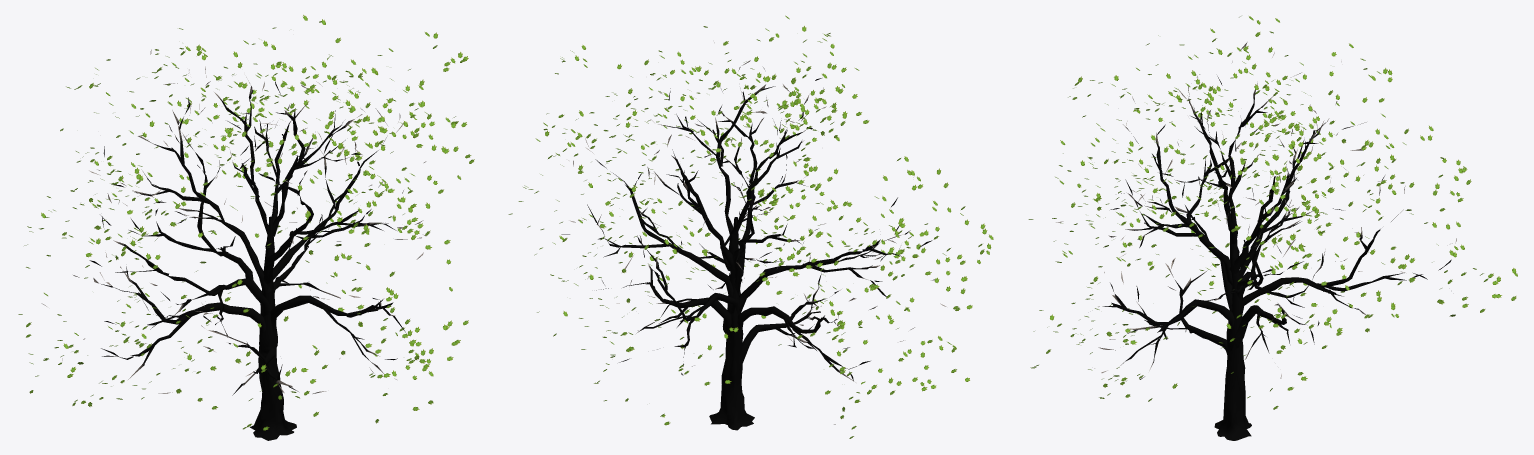
File: LINDEN-ashgreen-FIXED-far.glb
3 renders of one model, left to right at view 1: azimuth 30°, elevation 25°; view 2: azimuth 150°, elevation 25°; view 3: azimuth 270°, elevation 25°, orthographic. The views are drawn at different scales.
Parts seen in each view (by area): view 1: ash_green_1; view 2: ash_green_1; view 3: ash_green_1.
Part boxes in pixels (x1,y1,x2,y2): ash_green_1: [18, 15, 474, 440]; ash_green_1: [508, 15, 993, 438]; ash_green_1: [1028, 16, 1517, 440].
Bounding box in the file's own units: 20.25 × 17.13 × 19.53.
Materials: 2 (2 with a texture image).
